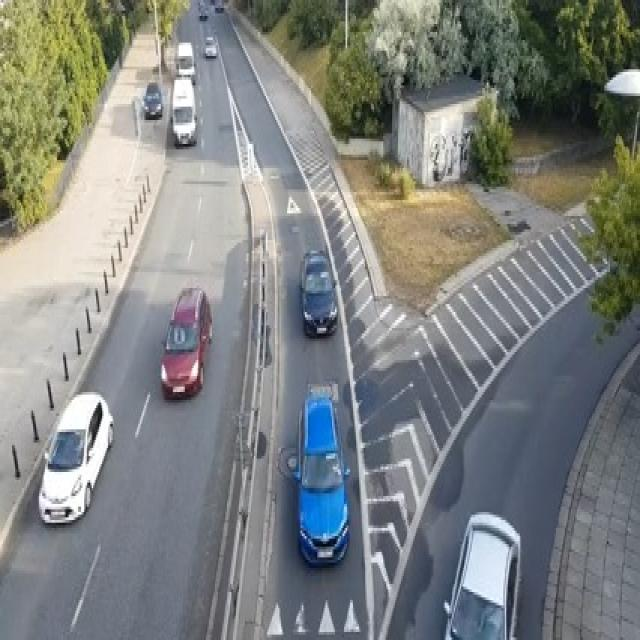car: (292, 384, 350, 565), (442, 510, 521, 638), (38, 390, 112, 526), (159, 286, 212, 398), (299, 248, 336, 336), (170, 75, 197, 146), (174, 40, 196, 83), (141, 80, 162, 117), (204, 34, 217, 59), (198, 8, 208, 19), (214, 0, 222, 11)
